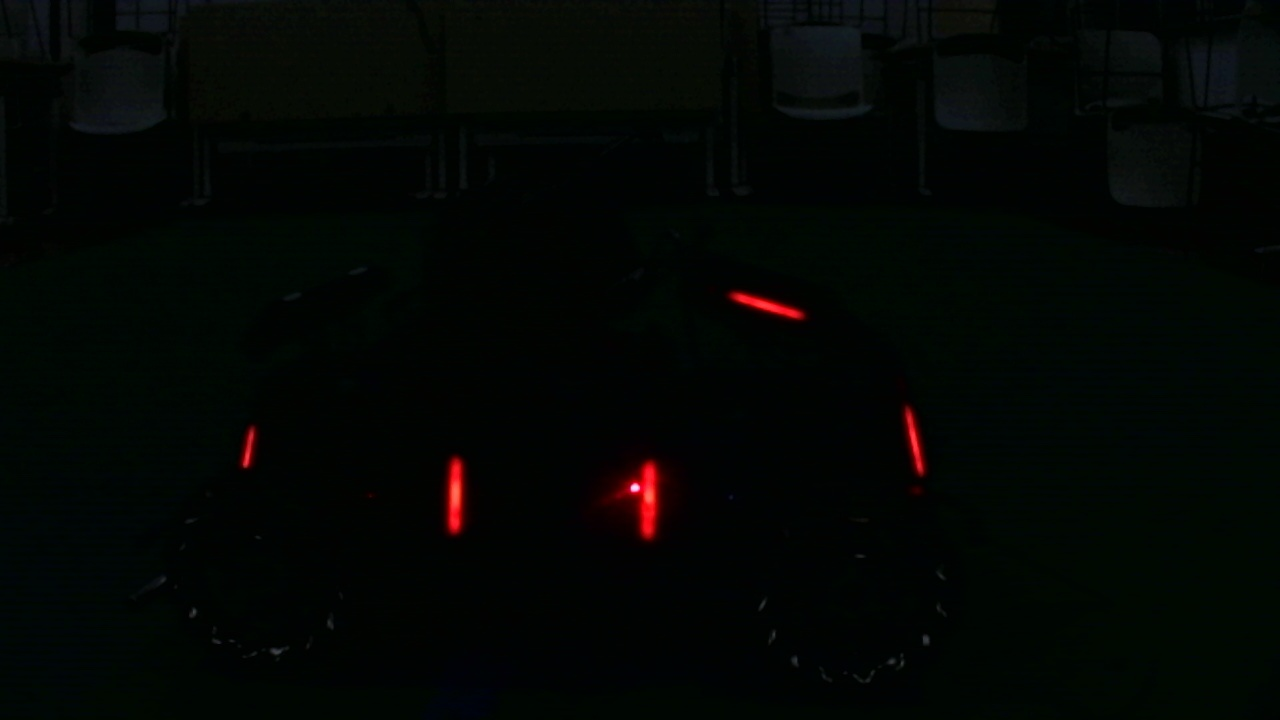lamp: (632, 451, 663, 542), (442, 450, 470, 546), (901, 404, 927, 473)
notpair1: (639, 403, 927, 544)
pair1: (446, 454, 659, 541)
